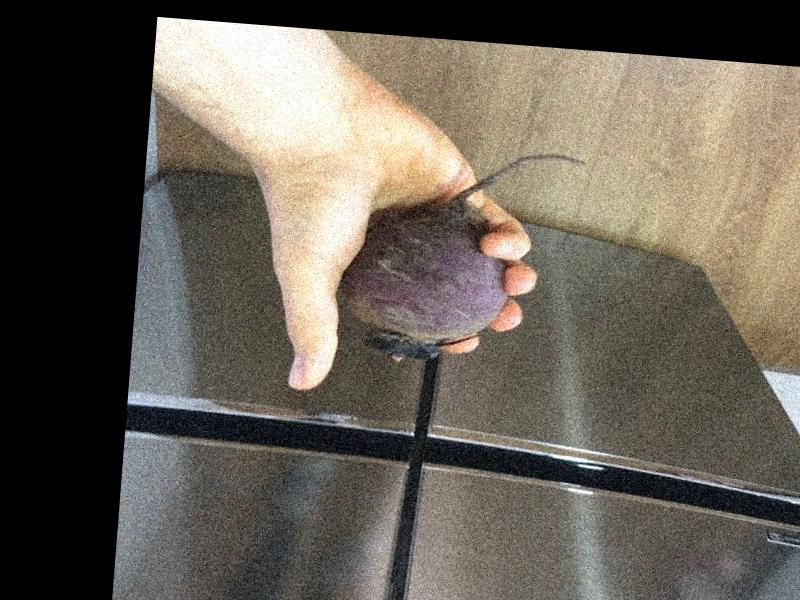Beet: (334, 140, 588, 373)
